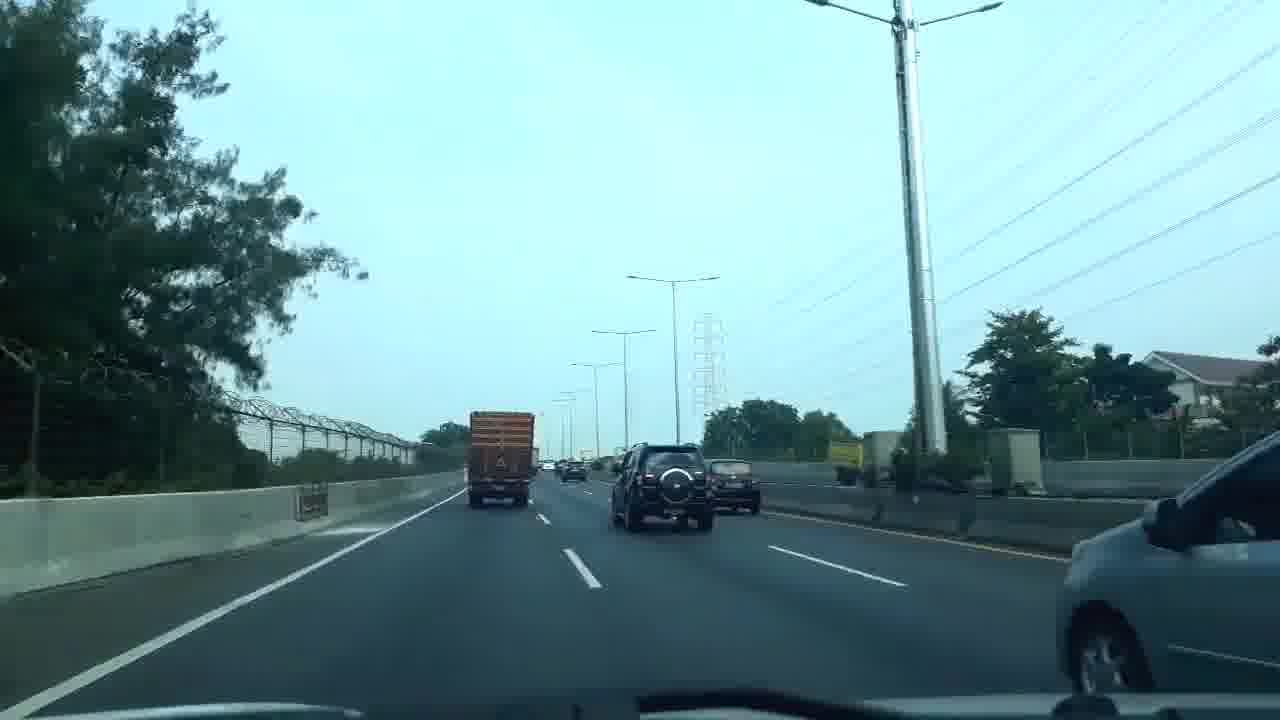plate_positive: (663, 507, 687, 516), (725, 482, 745, 489)
